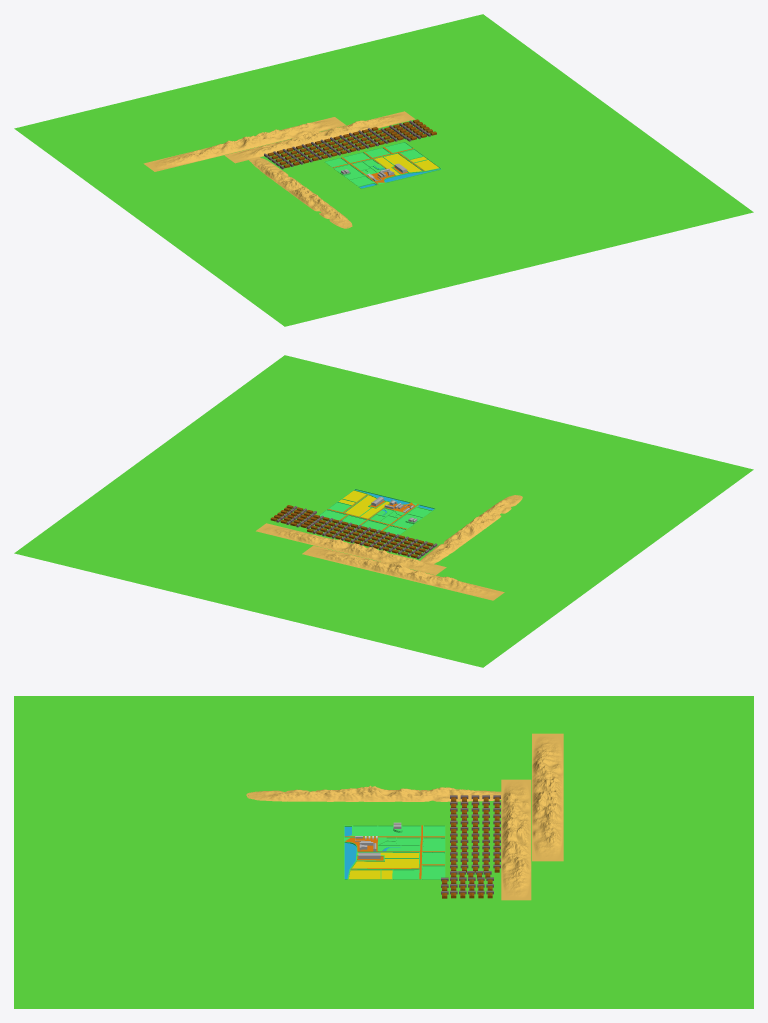
The model's file is town.glb.
3 views of the same model, one above another, from view 1: azimuth 30°, elevation 25°; view 2: azimuth 150°, elevation 25°; view 3: azimuth 270°, elevation 25° (orthographic). The views are drawn at different scales.
Parts seen in each view (by area): view 1: 平面.001, 平面, Landscape.002, Landscape.006, Landscape.001; view 2: 平面.001, 平面, Landscape.002, Landscape.006, Landscape.001; view 3: 平面.001, 平面, Landscape.002, Landscape.006, Landscape.001.
Boxes of the visible parts, bbox=[...] form: 平面.001: bbox=[14, 14, 753, 326]; 平面: bbox=[324, 142, 441, 188]; Landscape.002: bbox=[143, 117, 345, 171]; Landscape.006: bbox=[224, 111, 415, 163]; Landscape.001: bbox=[249, 157, 352, 228]; 平面.001: bbox=[14, 355, 753, 667]; 平面: bbox=[319, 488, 435, 534]; Landscape.002: bbox=[302, 545, 504, 600]; Landscape.006: bbox=[256, 523, 446, 575]; Landscape.001: bbox=[420, 495, 522, 563]; 平面.001: bbox=[14, 696, 753, 1008]; 平面: bbox=[344, 824, 445, 879]; Landscape.002: bbox=[532, 733, 563, 861]; Landscape.006: bbox=[501, 779, 531, 900]; Landscape.001: bbox=[246, 785, 501, 801].
Bounding box in the file's own units: 49.54 × 0.864 × 49.54.
